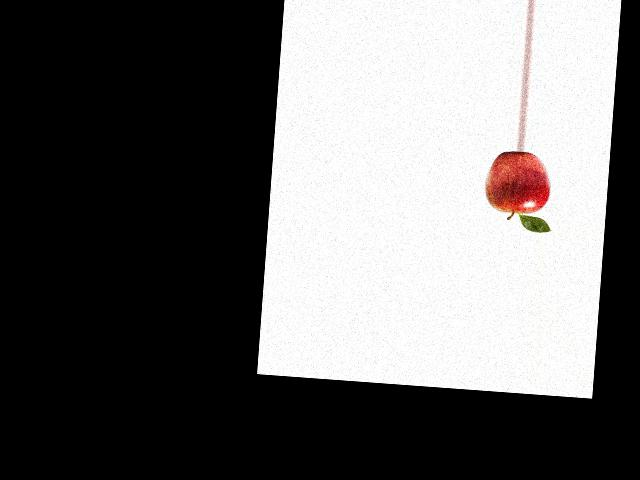apple: (481, 149, 557, 220)
